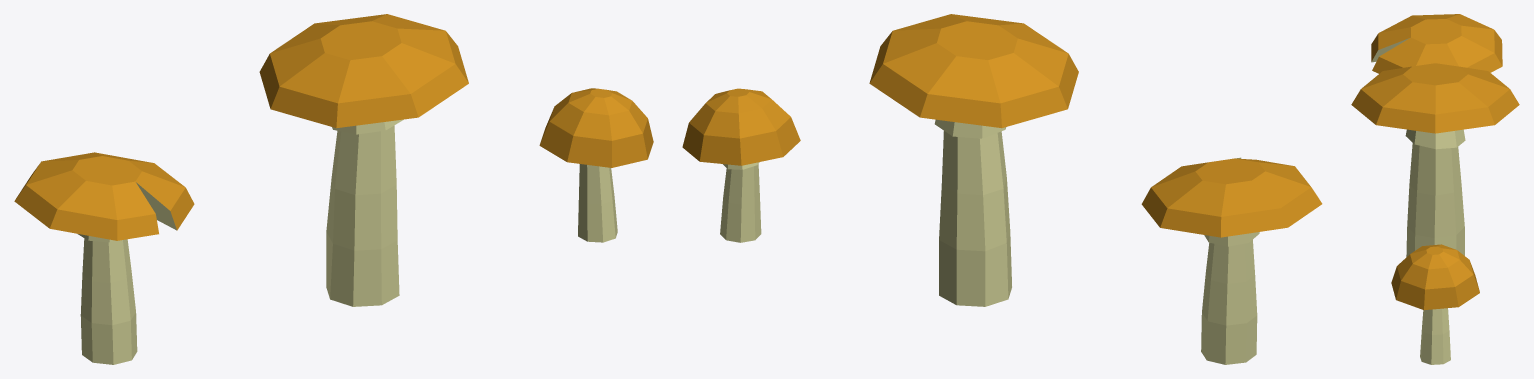
File: Low poly Mushrooms Amanita Caesarea.fbx
3 views of the same model, side by side, from view 1: azimuth 30°, elevation 25°; view 2: azimuth 150°, elevation 25°; view 3: azimuth 270°, elevation 25° (orthographic). The views are drawn at different scales.
Parts seen in each view (by area): view 1: Circle, Circle.003, Circle.002; view 2: Circle, Circle.003, Circle.002; view 3: Circle, Circle.003, Circle.002.
Part boxes in pixels (<box>): Circle: <box>259,14,468,306</box>; Circle.003: <box>14,152,194,364</box>; Circle.002: <box>539,88,653,242</box>; Circle: <box>869,14,1078,306</box>; Circle.003: <box>1141,157,1322,364</box>; Circle.002: <box>682,88,800,242</box>; Circle: <box>1351,63,1519,256</box>; Circle.003: <box>1371,14,1502,73</box>; Circle.002: <box>1391,244,1479,364</box>.
Size of the model in its own units: 107 by 42.48 by 32.89.
